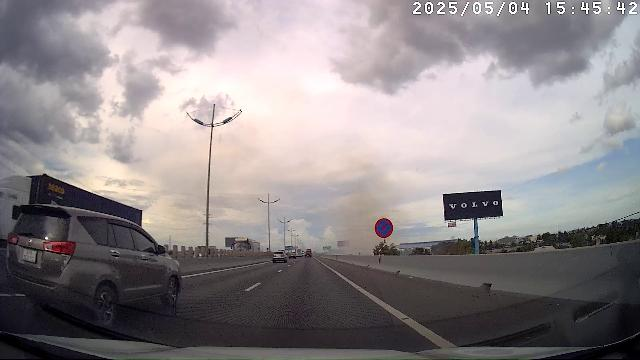130-cam-dung-va-do-xe: (374, 216, 394, 238)
